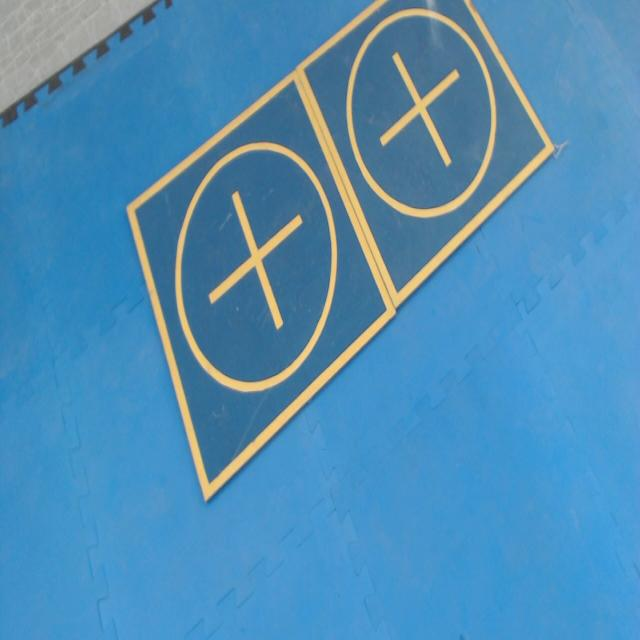base_pouso: (127, 71, 400, 505), (295, 0, 558, 309)
